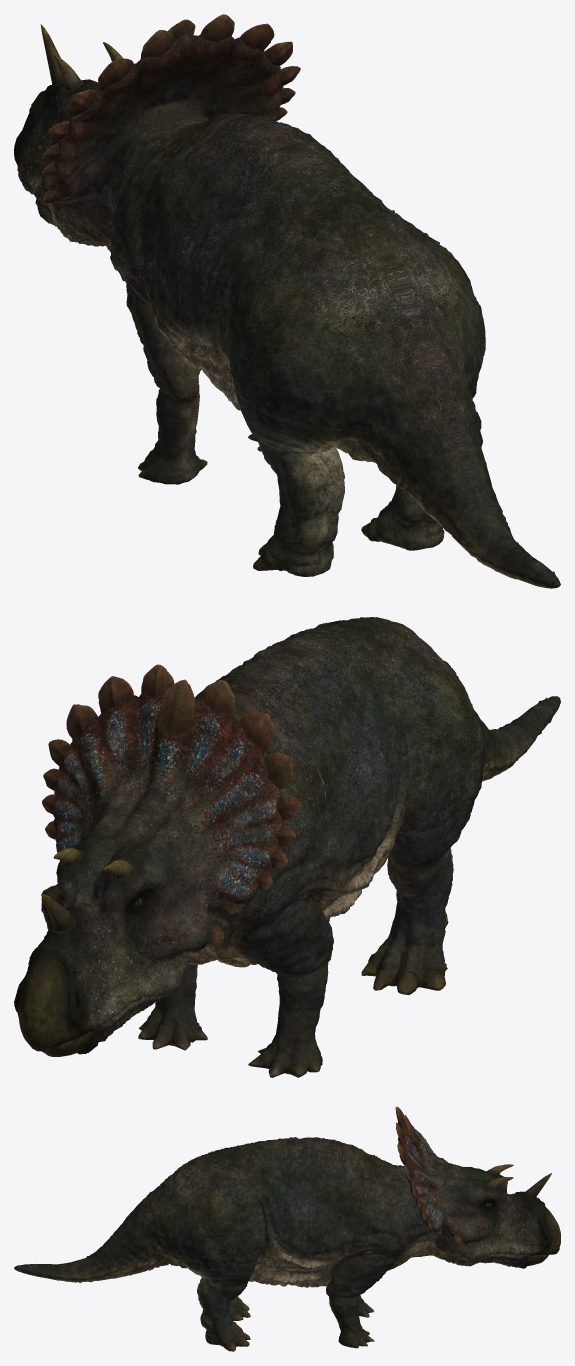
Rendered from regaliceratops.glb.
The picture shows the model from 3 angles, top to bottom: view 1: azimuth 30°, elevation 25°; view 2: azimuth 150°, elevation 25°; view 3: azimuth 270°, elevation 25°; orthographic projection. The views are drawn at different scales.
Parts seen in each view (by area): view 1: polySurface23_colA_0, polySurface23_colB_0, polySurface24_horns_0; view 2: polySurface23_colA_0, polySurface23_colB_0, polySurface24_horns_0; view 3: polySurface23_colA_0, polySurface23_colB_0, polySurface24_horns_0.
Part boxes in pixels (box(x1,y1,x2,y2)): polySurface23_colA_0: box(14, 24, 485, 462); polySurface23_colB_0: box(101, 99, 560, 588); polySurface24_horns_0: box(41, 14, 300, 203); polySurface23_colA_0: box(14, 617, 485, 1056); polySurface23_colB_0: box(138, 640, 560, 1077); polySurface24_horns_0: box(41, 664, 300, 944); polySurface23_colA_0: box(172, 1120, 560, 1287); polySurface23_colB_0: box(14, 1144, 435, 1351); polySurface24_horns_0: box(395, 1106, 463, 1243).
Size of the model in its own units: 1.82 by 2.84 by 6.56.
6 materials, 4 textured.
